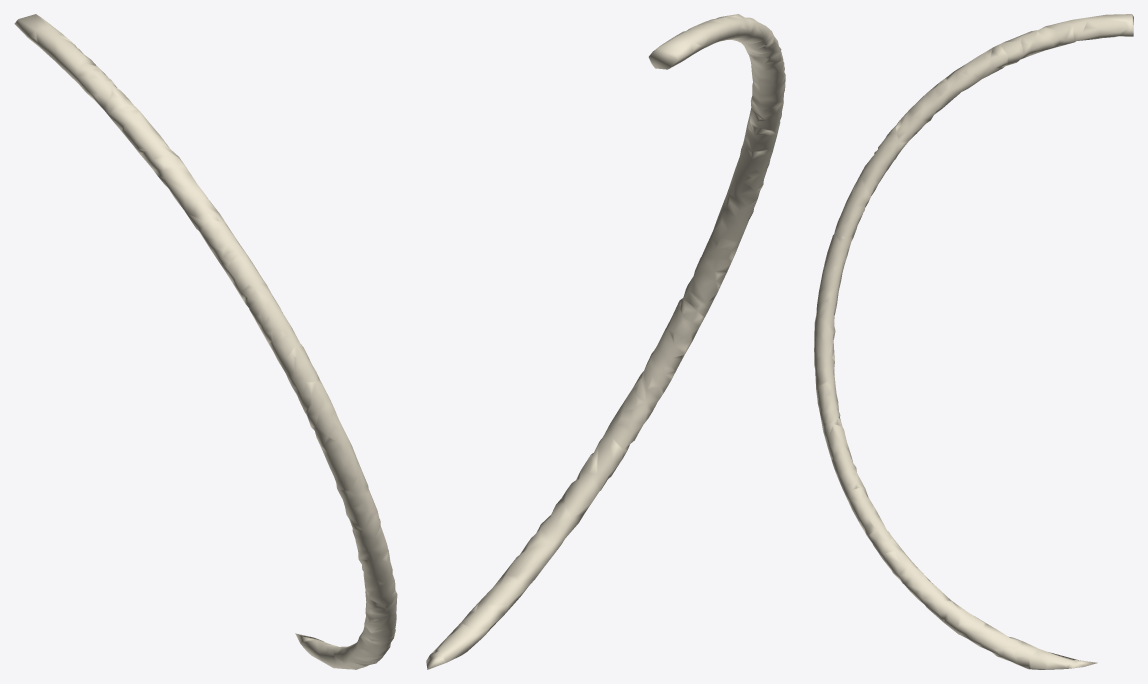
The model's file is rib_8_l.glb.
3 views of the same model, side by side, from view 1: azimuth 30°, elevation 25°; view 2: azimuth 150°, elevation 25°; view 3: azimuth 270°, elevation 25° (orthographic). The views are drawn at different scales.
Visible parts, largest first — view 1: geometry_0; view 2: geometry_0; view 3: geometry_0.
Boxes of the visible parts, box(x1,y1,x2,y2) form: geometry_0: box(14, 14, 397, 669); geometry_0: box(426, 14, 785, 669); geometry_0: box(814, 14, 1133, 669).
Bounding box in the file's own units: 0.3378 × 0.7791 × 0.4123.
